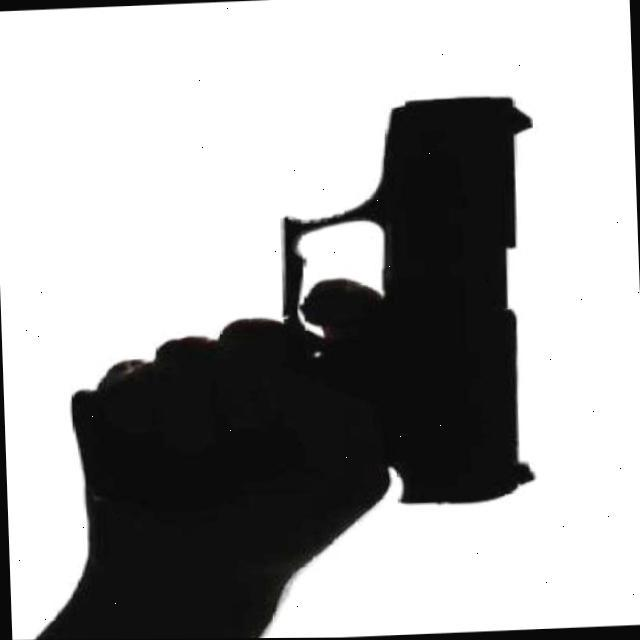gun: (61, 94, 546, 527)
